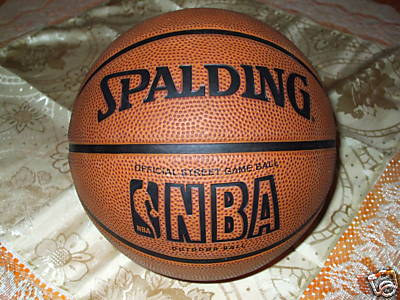basketball: (67, 8, 337, 282)
